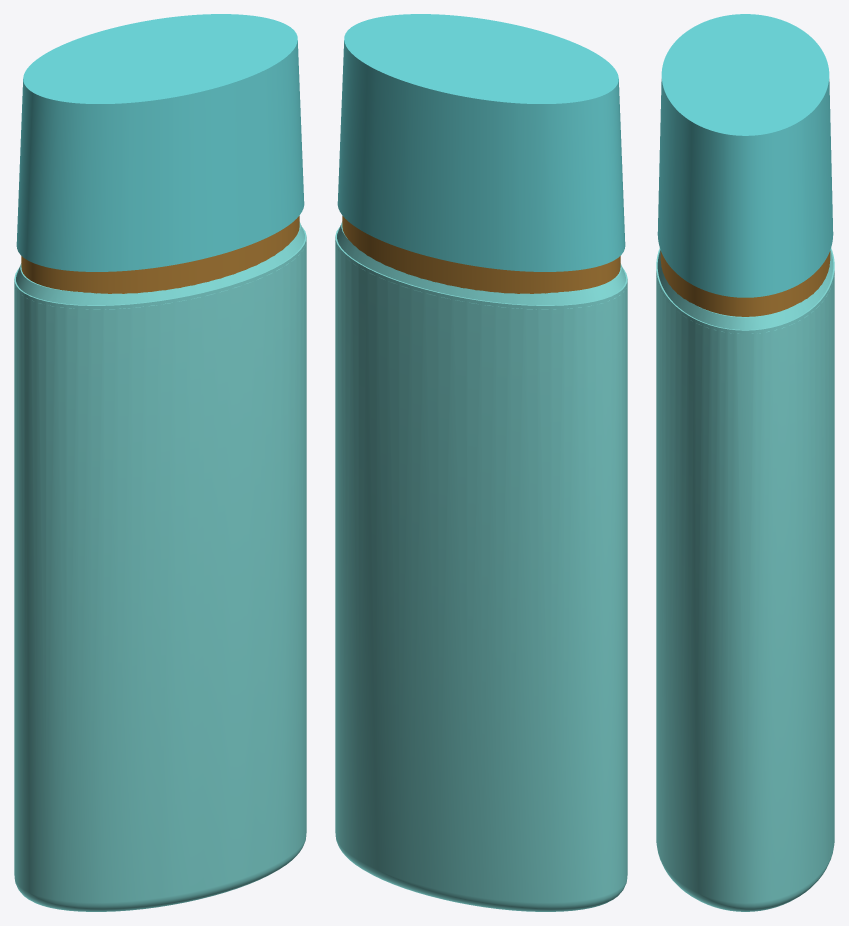
3 renders of one model, left to right at view 1: azimuth 30°, elevation 25°; view 2: azimuth 150°, elevation 25°; view 3: azimuth 270°, elevation 25°, orthographic. The views are drawn at different scales.
Parts seen in each view (by area): view 1: body, cap, band; view 2: body, cap, band; view 3: body, cap, band.
Part boxes in pixels (x1,y1,x2,y2): body: [14, 222, 306, 911]; cap: [16, 14, 304, 271]; band: [21, 216, 299, 293]; body: [335, 222, 627, 911]; cap: [337, 14, 625, 271]; band: [342, 216, 620, 293]; body: [656, 248, 834, 911]; cap: [657, 14, 833, 297]; band: [660, 251, 830, 316].
Bounding box in the file's own units: 0.0787 × 0.22 × 0.0458.
